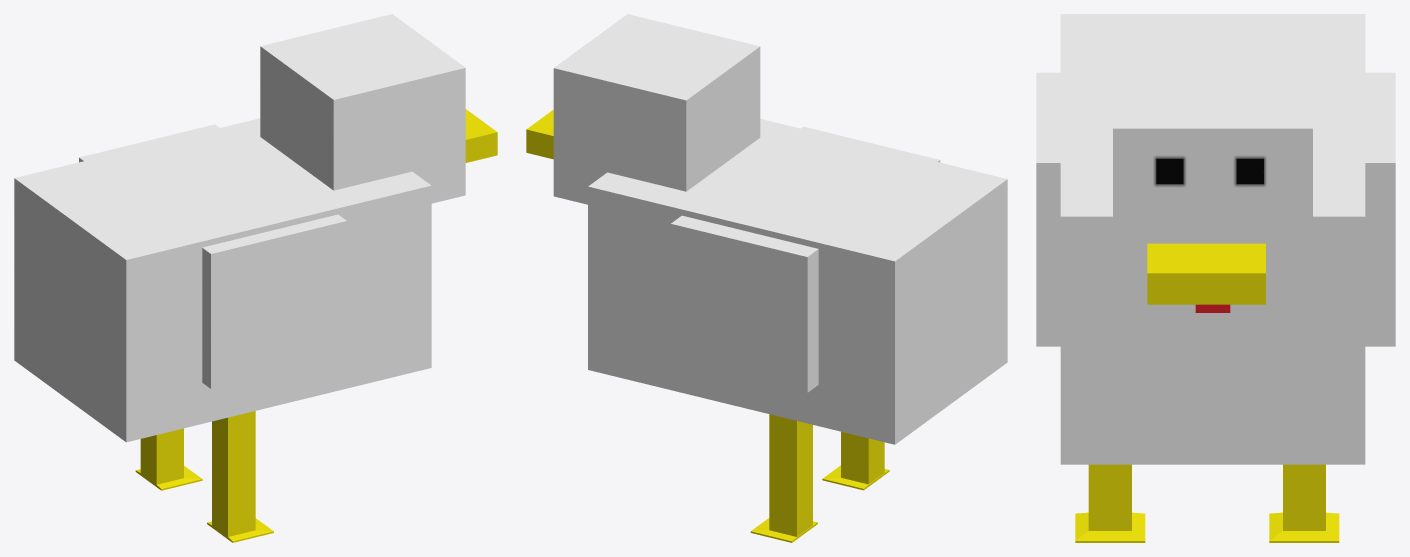
File: chicken.glb
3 renders of one model, left to right at view 1: azimuth 30°, elevation 25°; view 2: azimuth 150°, elevation 25°; view 3: azimuth 270°, elevation 25°, orthographic. The views are drawn at different scales.
Parts seen in each view (by area): view 1: Chicken; view 2: Chicken; view 3: Chicken.
Boxes of the visible parts, x1,y1,x2,y2 form: Chicken: [14, 14, 497, 542]; Chicken: [526, 14, 1007, 542]; Chicken: [1036, 14, 1395, 542].
Size of the model in its own units: 0.9161 by 0.8791 by 0.5194.
Materials: 1 (1 with a texture image).
